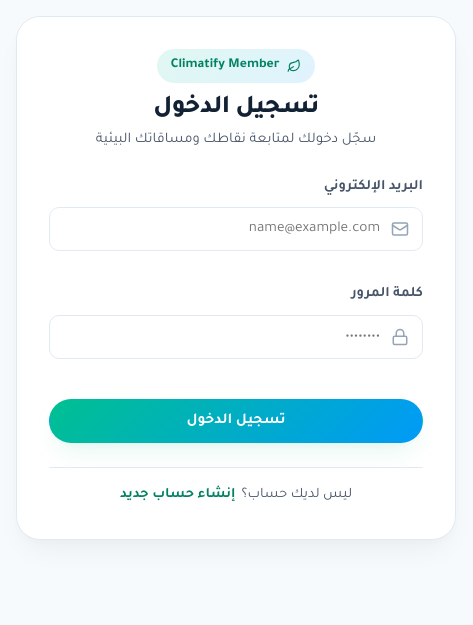
auth form validation › login rejects a malformed email before reaching the store
The width and height of the screenshot is (473, 625).
In the field labelled "البريد الإلكتروني": (236, 230) [49,208,423,252], type "not-an-email"
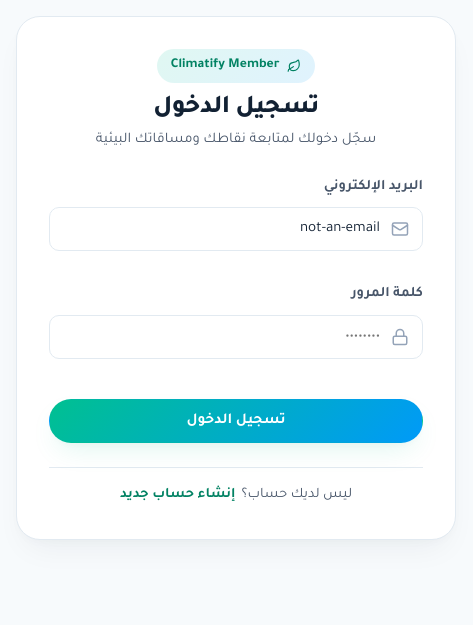
In the password field labelled "كلمة المرور": (236, 336) [49,314,423,358], type "secret123"
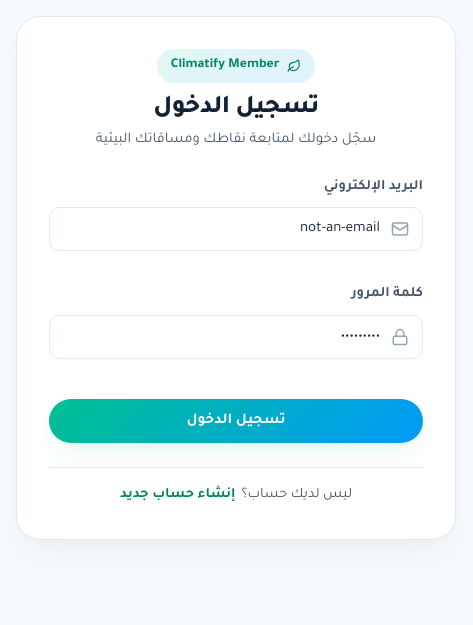
Click the button "تسجيل الدخول": (236, 420) [49,398,423,442]
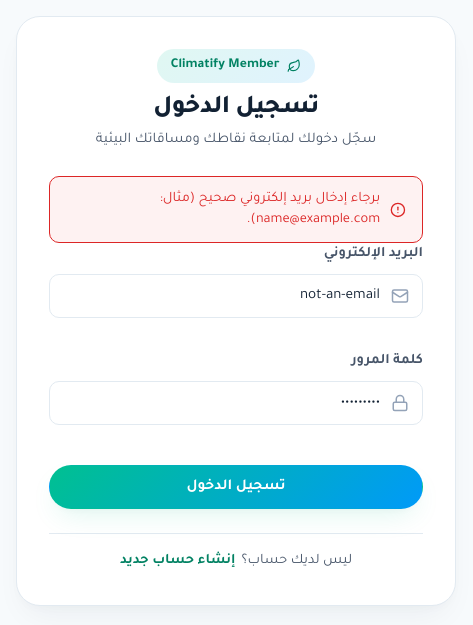
Check: the message shows "برجاء إدخال بريد إلكتروني صحيح", box [160,192,380,227]
